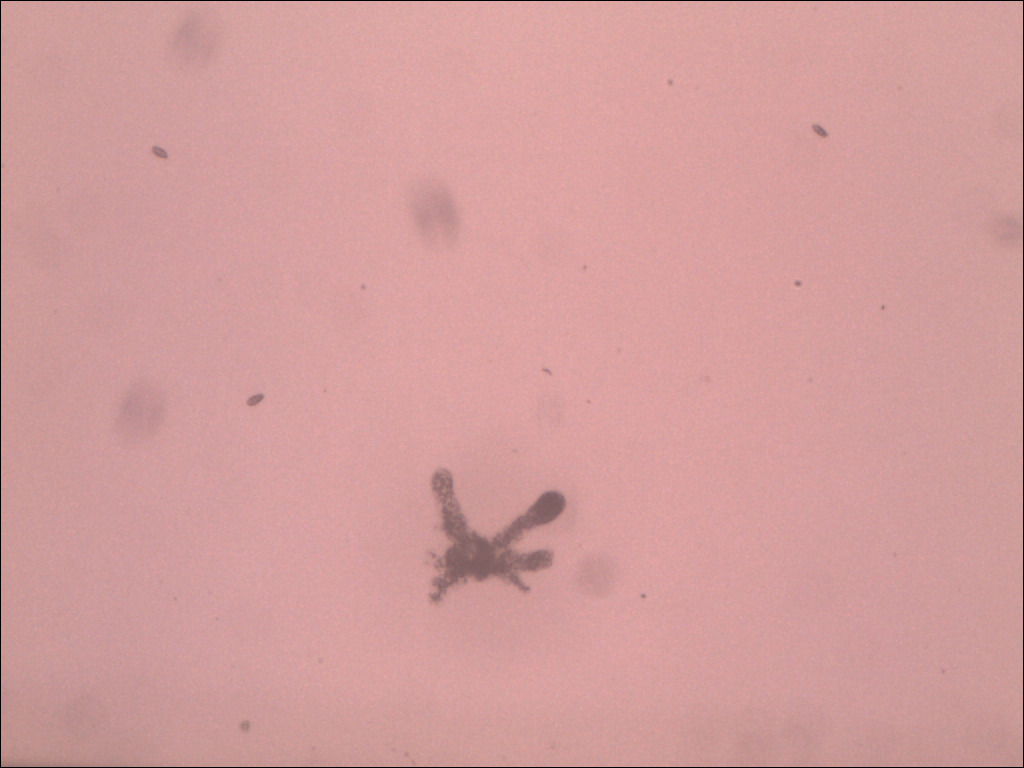amoeba: (414, 457, 589, 615)
